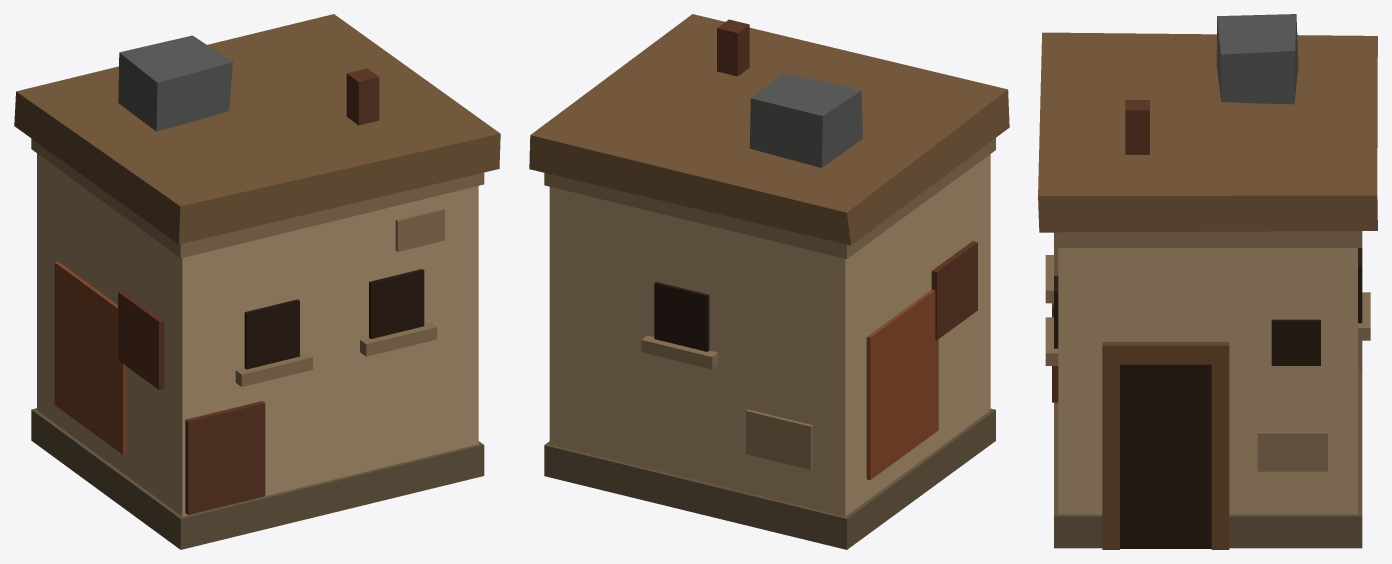
The model's file is building.glb.
3 renders of one model, left to right at view 1: azimuth 30°, elevation 25°; view 2: azimuth 150°, elevation 25°; view 3: azimuth 270°, elevation 25°, orthographic. The views are drawn at different scales.
Visible parts, largest first — view 1: building; view 2: building; view 3: building.
Boxes of the visible parts, x1,y1,x2,y2 form: building: (14,14,500,549); building: (529,14,1009,549); building: (1038,14,1377,549).
Bounding box in the file's own units: 1.09 × 1.28 × 0.9645.
